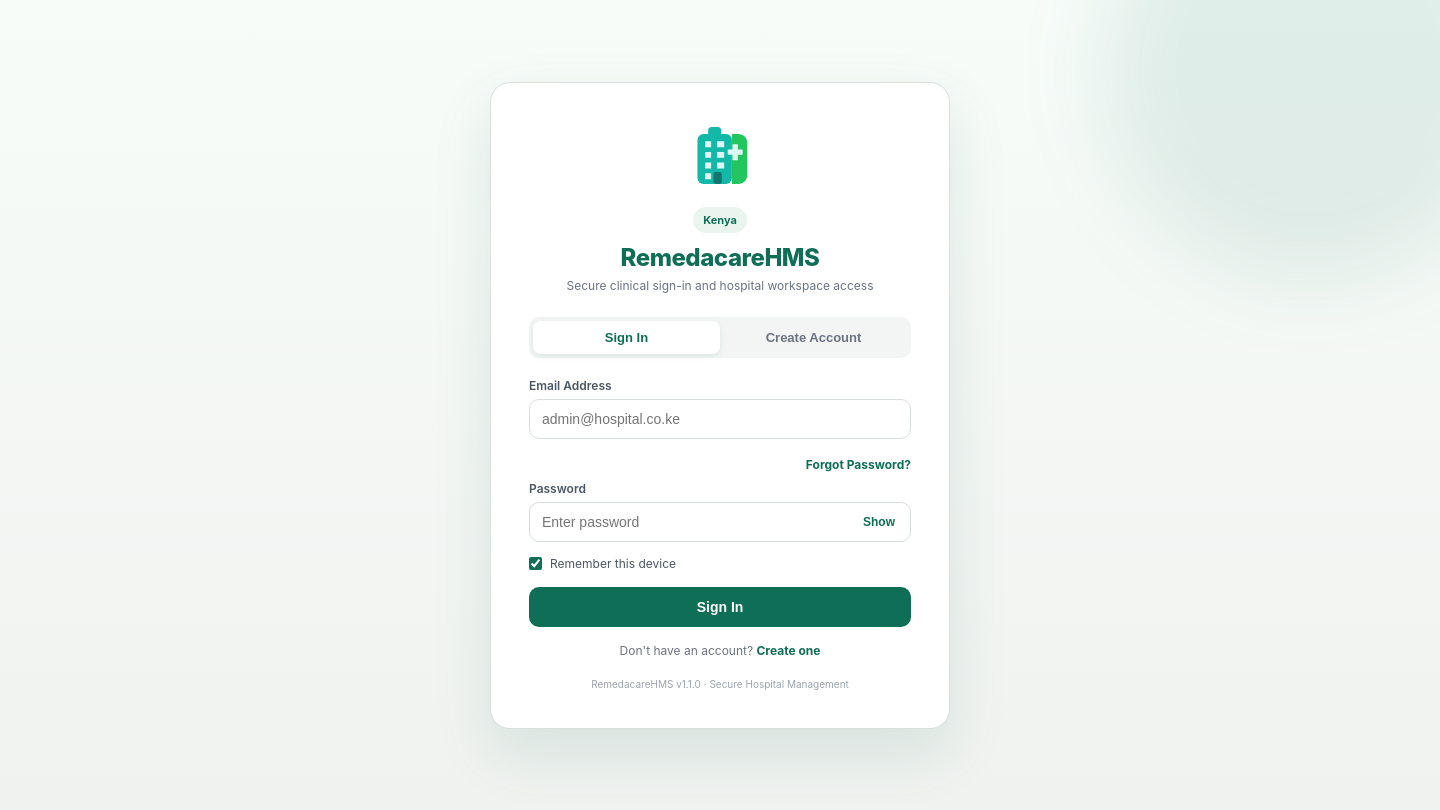
Login password recovery › shows an error when submitting an empty form
Click the 2nd button "Sign In" at (720, 606), box [529, 586, 911, 626]
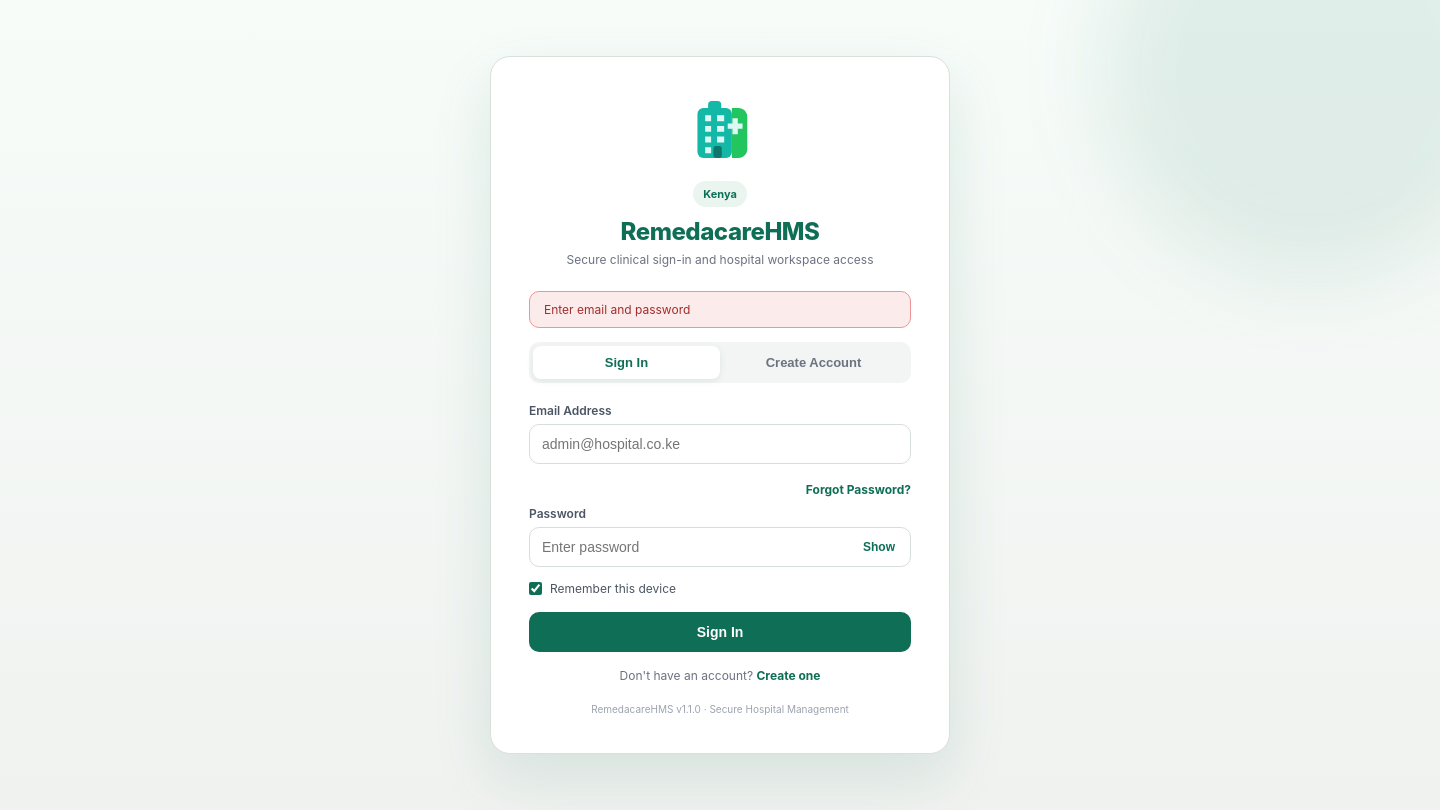
Expected: the text "Enter email and password" is shown, [529, 291, 911, 328]
